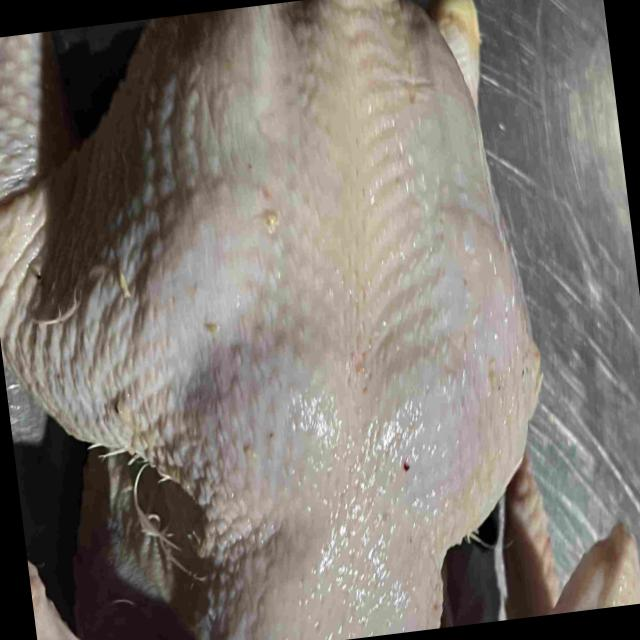back: (174, 0, 539, 519)
leg: (0, 16, 185, 458), (426, 0, 481, 103)
wing: (502, 452, 640, 619)
